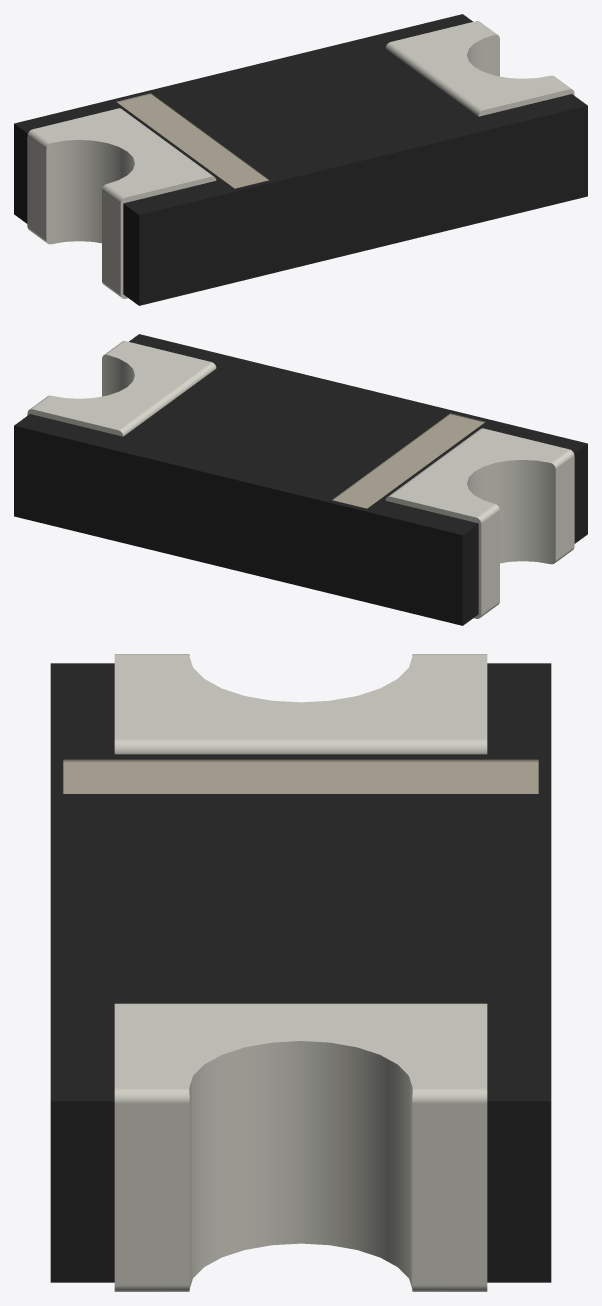
File: D_2010_5025Metric.glb
3 renders of one model, top to bottom at view 1: azimuth 30°, elevation 25°; view 2: azimuth 150°, elevation 25°; view 3: azimuth 270°, elevation 25°, orthographic. The views are drawn at different scales.
Visible parts, largest first — view 1: =>[0:1:1:3]; view 2: =>[0:1:1:3]; view 3: =>[0:1:1:3].
Part boxes in pixels (x1,y1,x2,y2): =>[0:1:1:3]: (14, 14, 587, 305); =>[0:1:1:3]: (14, 334, 587, 625); =>[0:1:1:3]: (50, 654, 551, 1291).
Bounding box in the file's own units: 0.0045 × 0.00096 × 0.00215.
